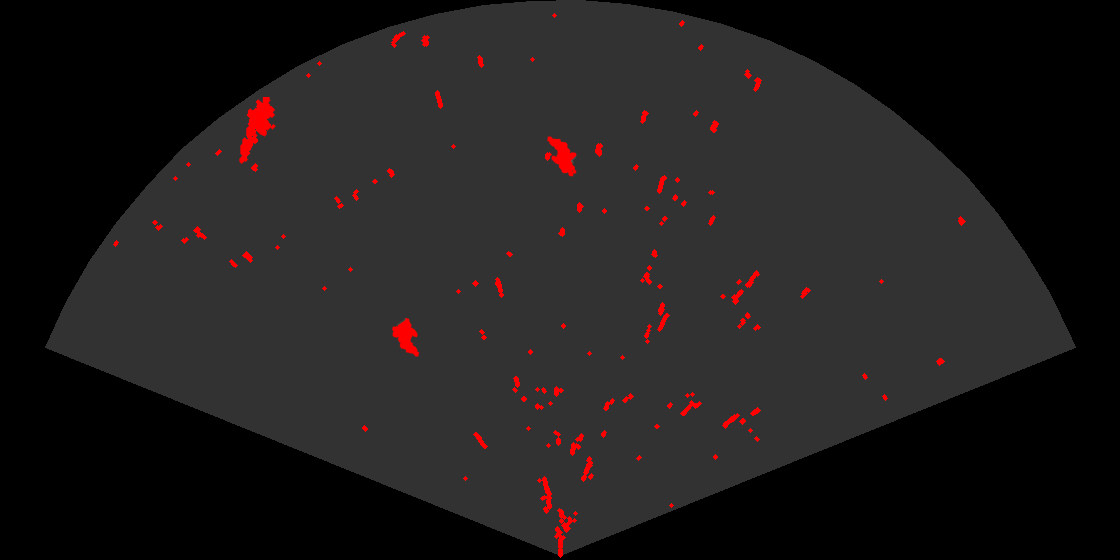AUV: (546, 135, 578, 178), (390, 316, 421, 358)
frogman: (238, 97, 277, 165)
